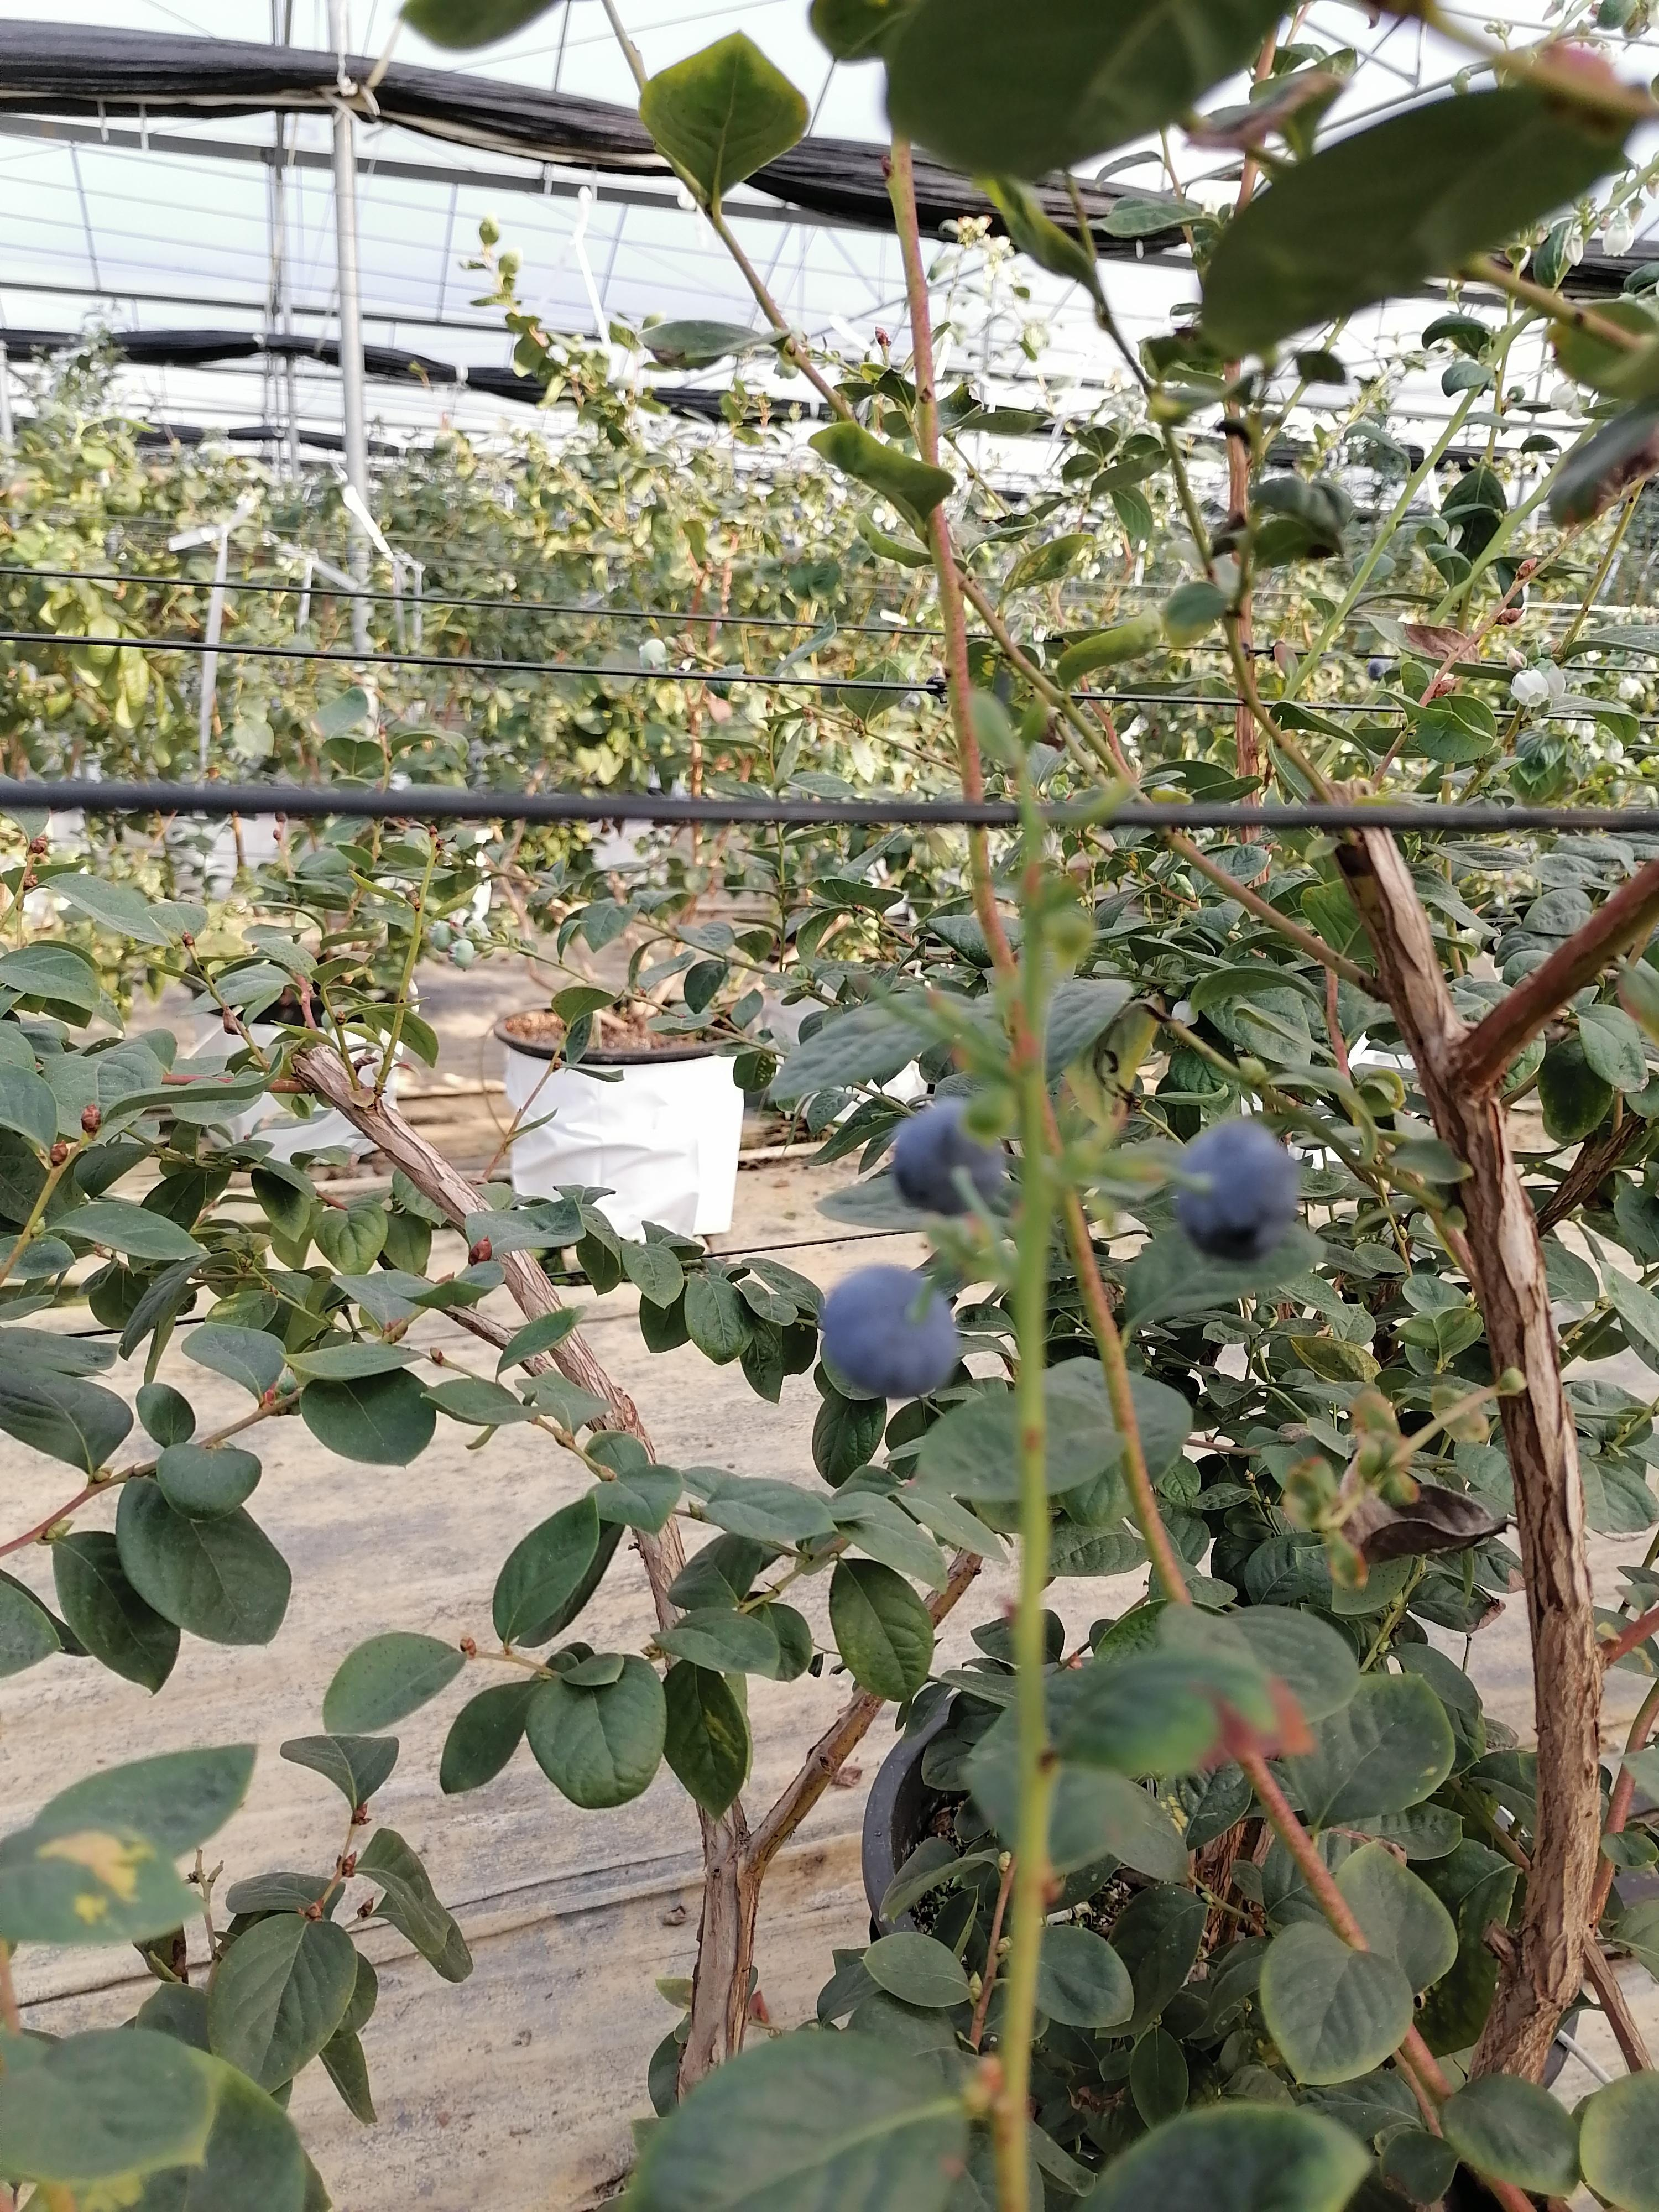ripe-blueberries: (824, 1264, 960, 1402), (1178, 1118, 1305, 1263), (899, 1096, 1009, 1212)
